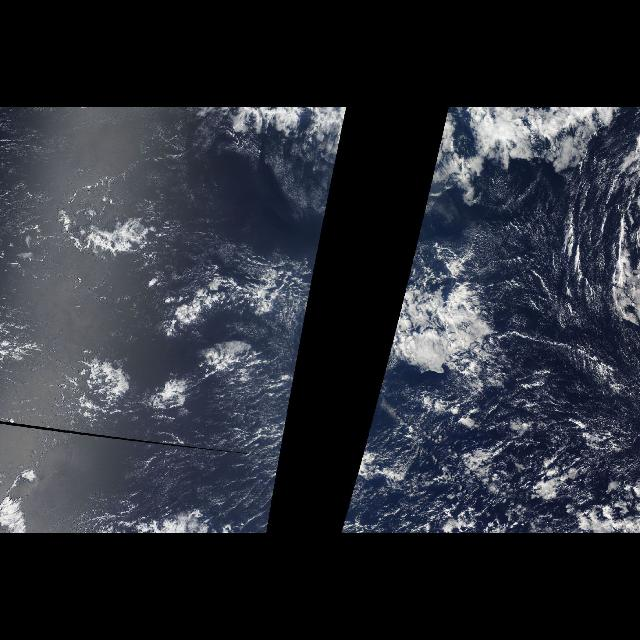Gravel: (381, 377, 615, 533)
Sugar: (50, 190, 296, 524), (464, 210, 576, 344), (342, 374, 396, 518)
